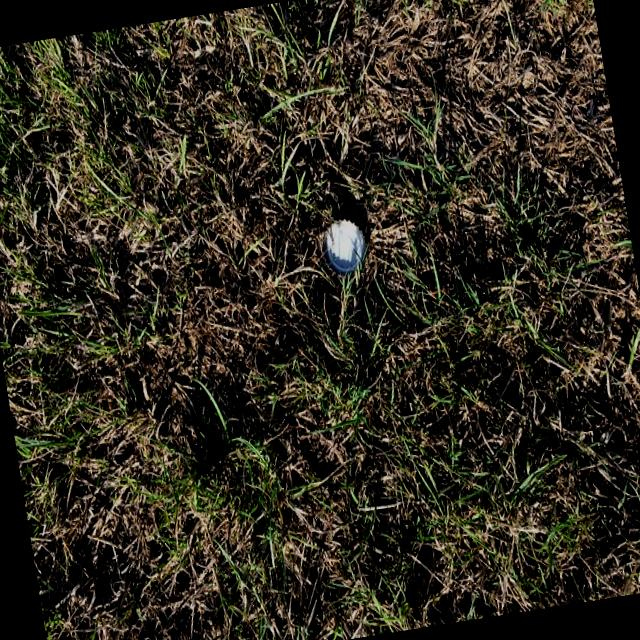Trash: (319, 216, 372, 282)
